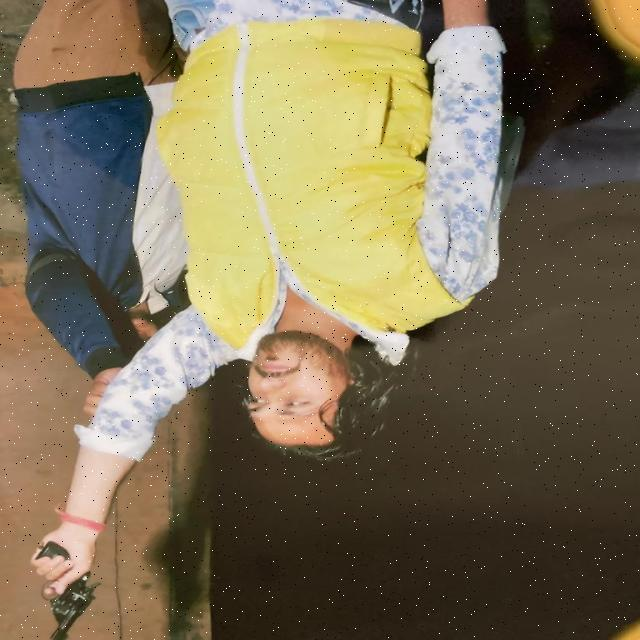gun: (20, 535, 105, 637)
